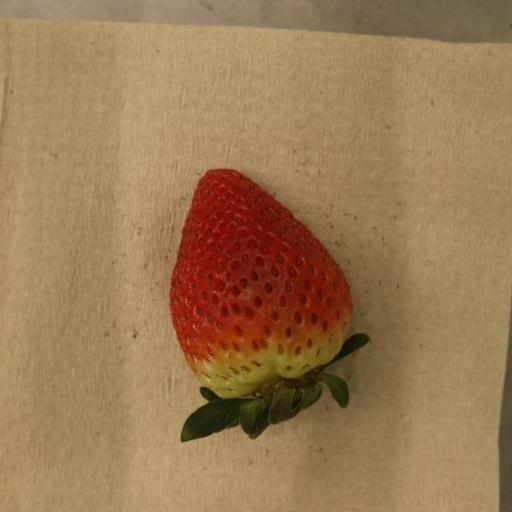Strawberry: (170, 169, 372, 444)
